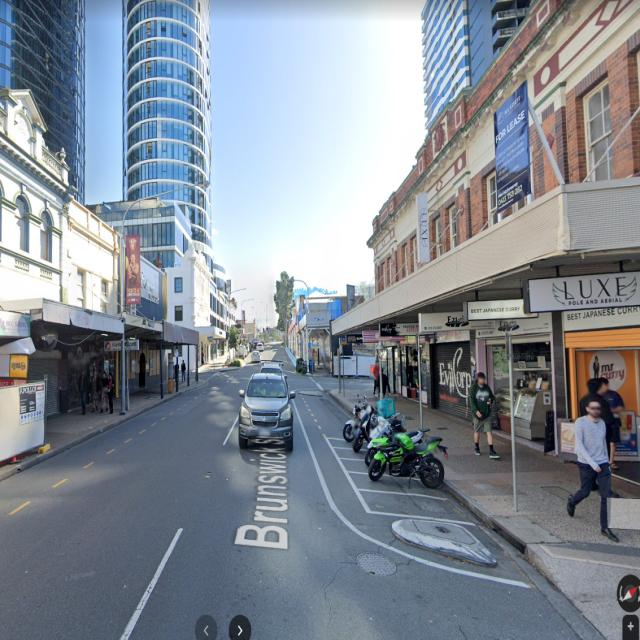light pole: (120, 179, 210, 415), (290, 278, 314, 375), (228, 288, 246, 367)
steel-pole: (508, 334, 518, 515), (120, 217, 126, 414), (417, 334, 423, 432), (306, 284, 310, 374), (227, 292, 231, 365), (342, 344, 345, 398)
streetlight: (121, 179, 210, 235), (288, 277, 310, 296), (227, 287, 246, 298)
